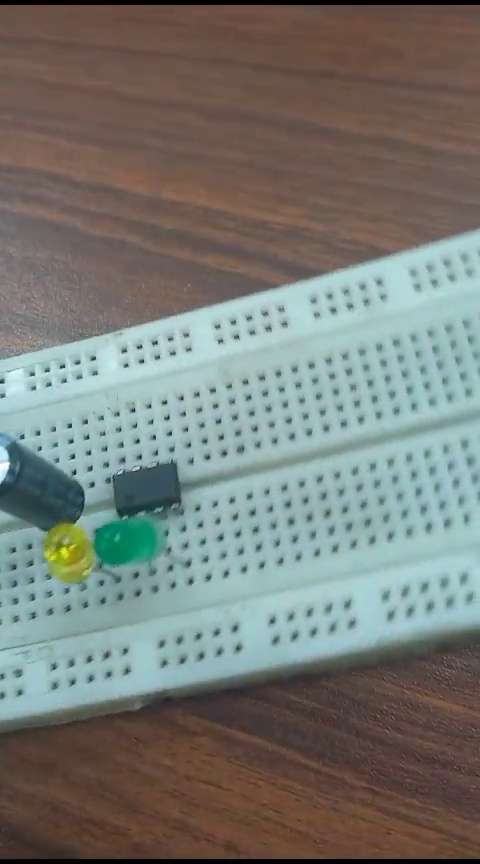IC: (104, 469, 192, 516)
LED: (38, 520, 96, 593), (102, 517, 166, 579)
capacitor: (1, 427, 90, 535)
